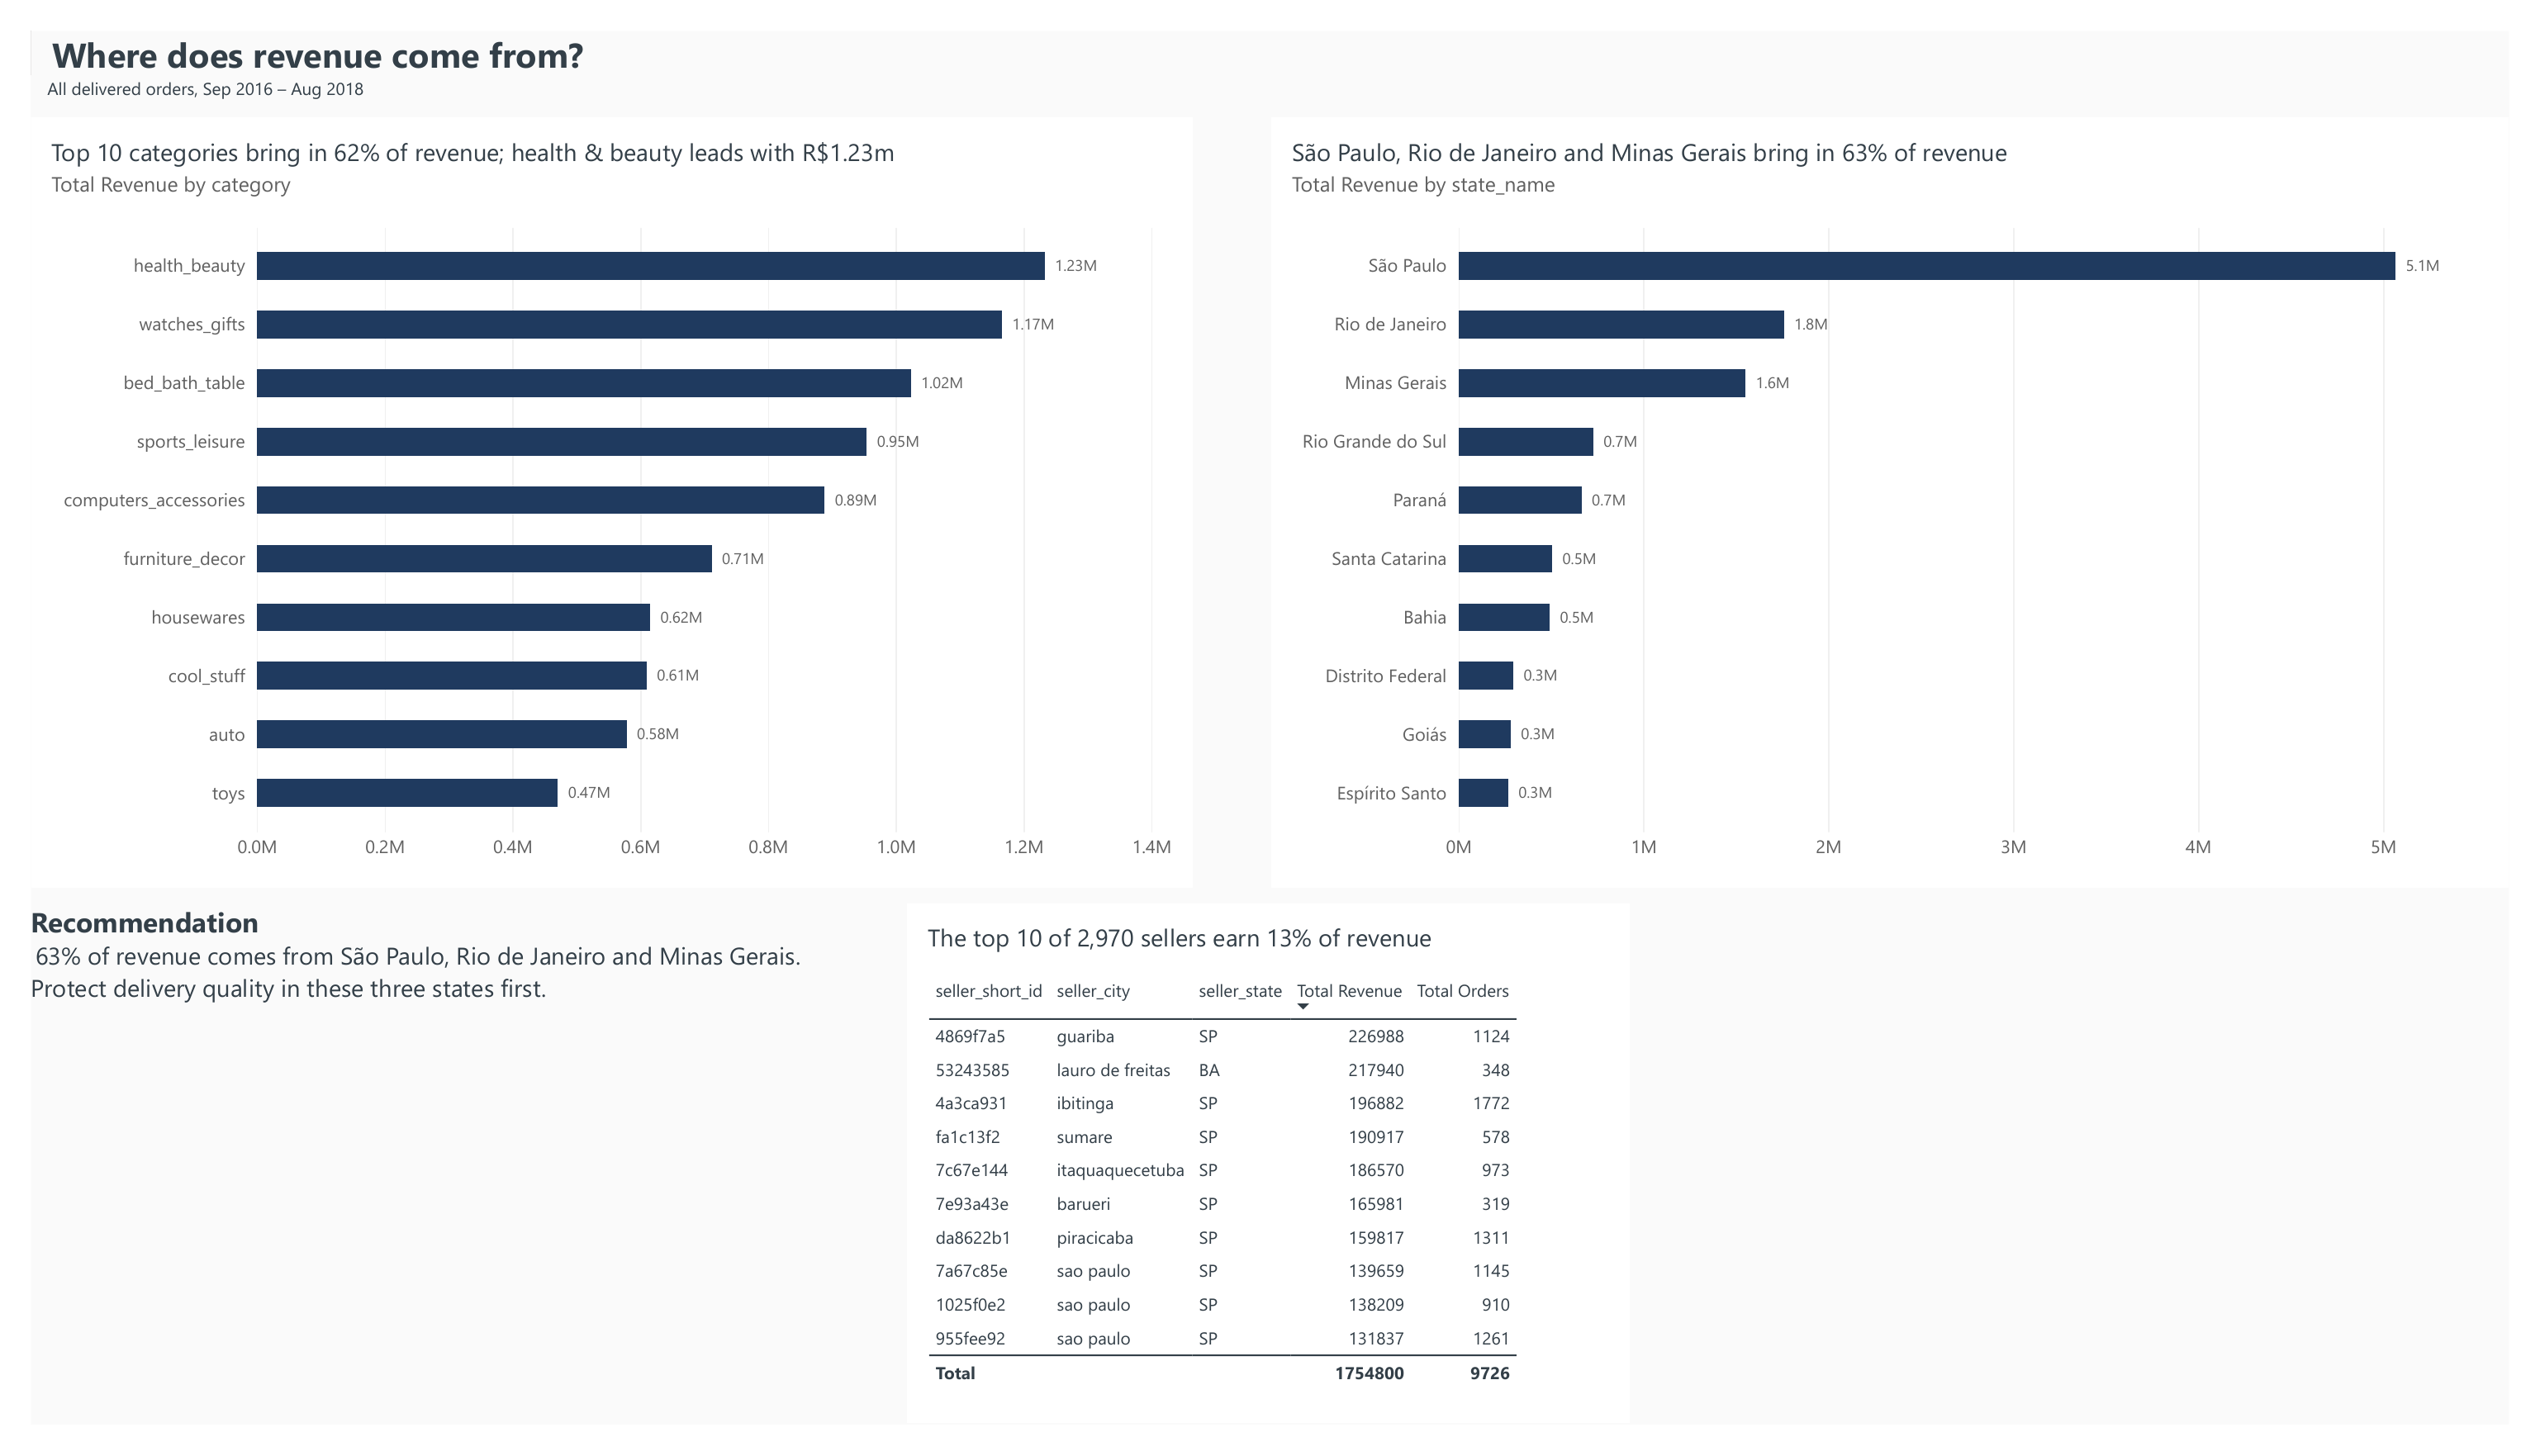

The dashboard page shown, as its layout file describes it:
{"tool":"powerbi","page":{"name":"Products & Regions","canvas":[1920,1080],"ordinal":1},"visuals":[{"type":"textbox","box":[9.1,0,563.6,66.7],"z":0},{"type":"clusteredBarChart","title":"Top 10 categories bring in 62% of revenue; health & beauty leads with R$1.23m","fields":{"Category":["fact_sales.category"],"Y":["_Measures.Total Revenue"]},"box":[0,66.7,900,597],"z":1000},{"type":"clusteredBarChart","title":"São Paulo, Rio de Janeiro and Minas Gerais bring in 63% of revenue","fields":{"Category":["dim_state.state_name"],"Y":["_Measures.Total Revenue"]},"box":[960.6,66.7,960.6,597],"z":2000},{"type":"tableEx","title":"The top 10 of 2,970 sellers earn 13% of revenue","fields":{"Values":["dim_seller.seller_short_id","dim_seller.seller_city","dim_seller.seller_state","_Measures.Total Revenue","_Measures.Total Orders"]},"box":[678.8,675.8,560.6,403],"z":3000},{"type":"textbox","box":[0,676,604,136],"z":3001}]}

Visuals, with their boxes on the page's 1920x1080 design canvas (x1, y1, x2, y2). These are canvas units, not pixel positions in the 2540x1456 screenshot, which may show the page scaled, cropped or inside an application window:
textbox: [left=9, top=0, right=573, bottom=67]
"Top 10 categories bring in 62% of revenue; health & beauty leads with R$1.23m" clusteredBarChart: [left=0, top=67, right=900, bottom=664]
"São Paulo, Rio de Janeiro and Minas Gerais bring in 63% of revenue" clusteredBarChart: [left=961, top=67, right=1921, bottom=664]
"The top 10 of 2,970 sellers earn 13% of revenue" tableEx: [left=679, top=676, right=1239, bottom=1079]
textbox: [left=0, top=676, right=604, bottom=812]
